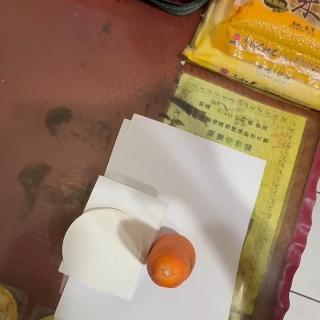carrot: (146, 233, 197, 290)
